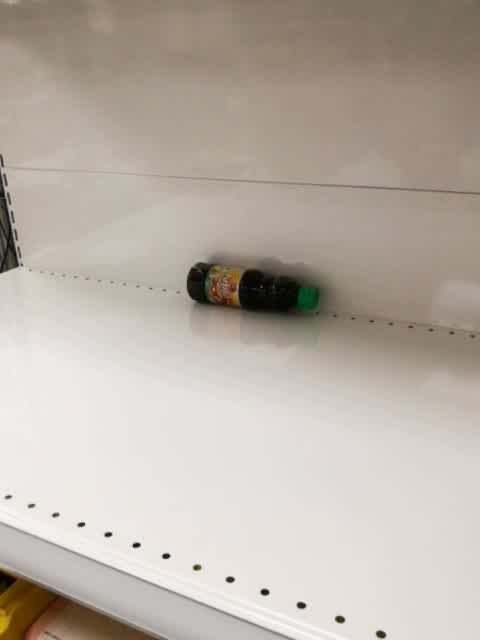cookingoil: (184, 261, 323, 315)
